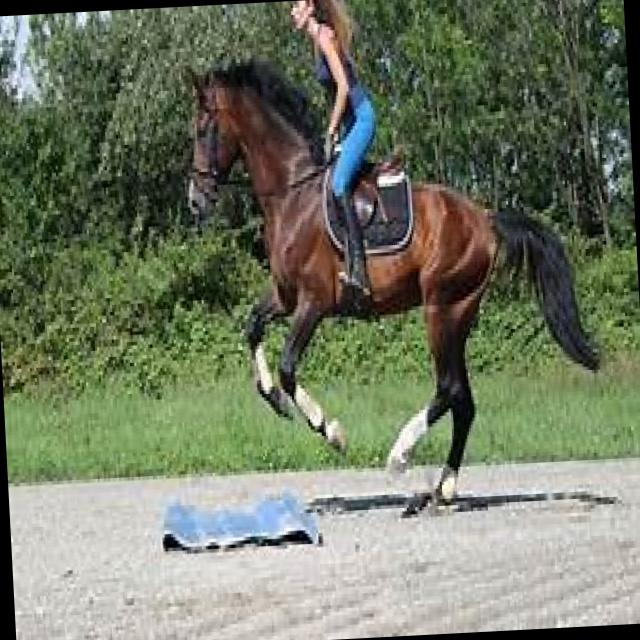animal: (150, 40, 608, 528)
